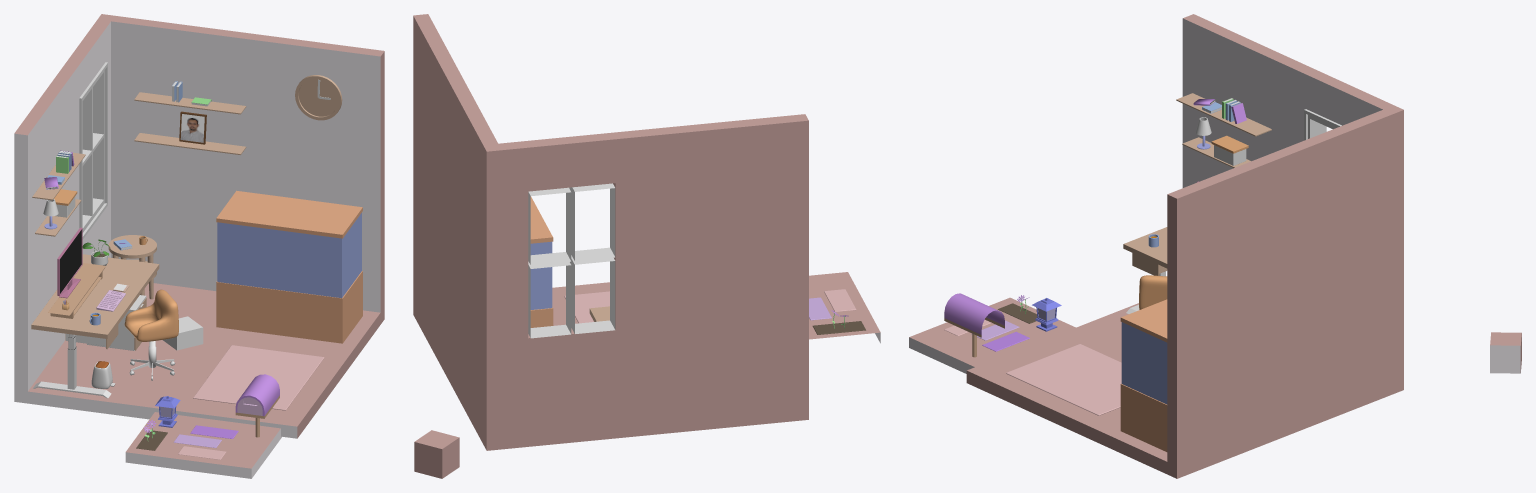
The model's file is Finale Version 16.glb.
3 renders of one model, left to right at view 1: azimuth 30°, elevation 25°; view 2: azimuth 150°, elevation 25°; view 3: azimuth 270°, elevation 25°, orthographic. The views are drawn at different scales.
Visible parts, largest first — view 1: Body, Aquarium, Desks, Floor Items, Mini Floor, Shelves, Table Stuff, Chair, Clock, Mailbox, Computer, Cube (+5 smaller); view 2: Body, Mini Floor, Aquarium, Cube.001, Floor Items, Dirt, FloorThird; view 3: Body, Aquarium, Floor Items, Mini Floor, Shelves, Mailbox, Desks, Cube.001, Chair, Lamp.
Part boxes in pixels (x1,y1,x2,y2): Body: [14, 14, 384, 438]; Aquarium: [216, 190, 362, 343]; Desks: [31, 235, 159, 398]; Floor Items: [87, 295, 324, 410]; Mini Floor: [125, 412, 281, 478]; Shelves: [32, 81, 246, 236]; Table Stuff: [48, 236, 147, 325]; Chair: [124, 289, 178, 341]; Clock: [295, 75, 342, 120]; Mailbox: [235, 374, 279, 437]; Computer: [57, 227, 82, 298]; Cube: [163, 316, 203, 350]; Body: [413, 14, 808, 450]; Mini Floor: [809, 272, 880, 343]; Aquarium: [530, 196, 553, 327]; Cube.001: [414, 430, 459, 478]; Floor Items: [564, 291, 609, 323]; Dirt: [812, 321, 865, 334]; FloorThird: [824, 289, 856, 311]; Body: [966, 14, 1403, 478]; Aquarium: [1120, 299, 1167, 451]; Floor Items: [1006, 344, 1121, 415]; Mini Floor: [909, 297, 1075, 373]; Shelves: [1176, 93, 1271, 167]; Mailbox: [944, 293, 1004, 357]; Desks: [1123, 227, 1167, 313]; Cube.001: [1490, 332, 1521, 373]; Chair: [1139, 275, 1167, 309]; Lamp: [1032, 298, 1061, 331].
Size of the model in its own units: 27.58 by 19.65 by 38.64.
43 materials, 1 textured.
